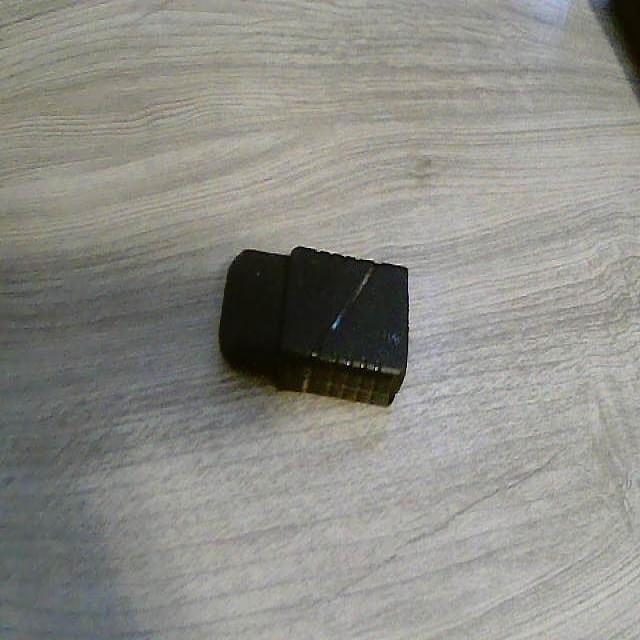borracha: (204, 234, 437, 413)
